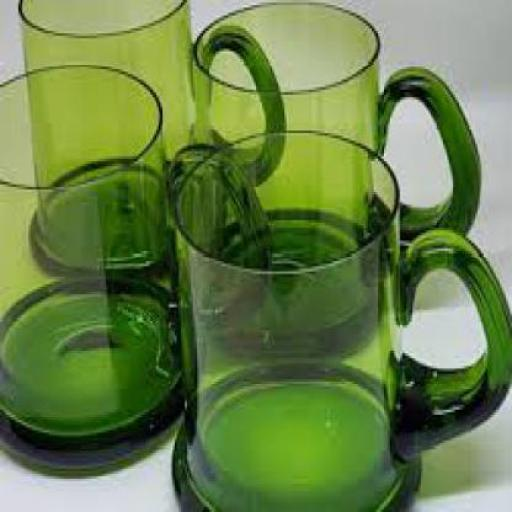glass: (173, 128, 510, 510), (0, 61, 272, 474), (186, 0, 480, 358), (18, 0, 287, 277)
